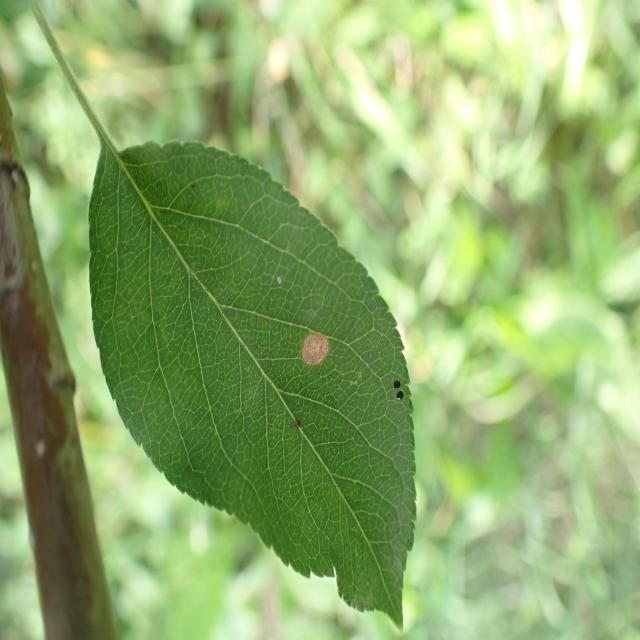Black Rot: (289, 309, 338, 379)
